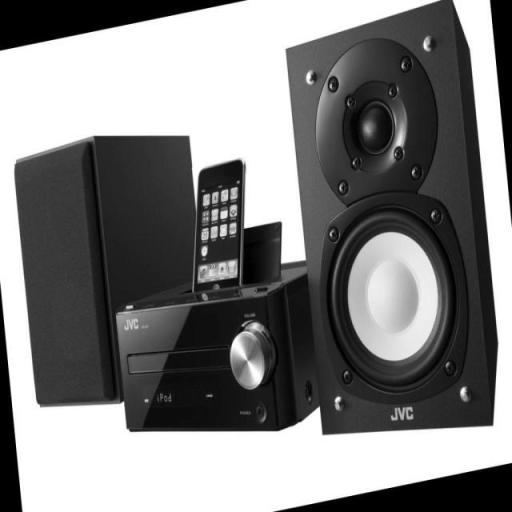phone: (192, 155, 251, 292)
